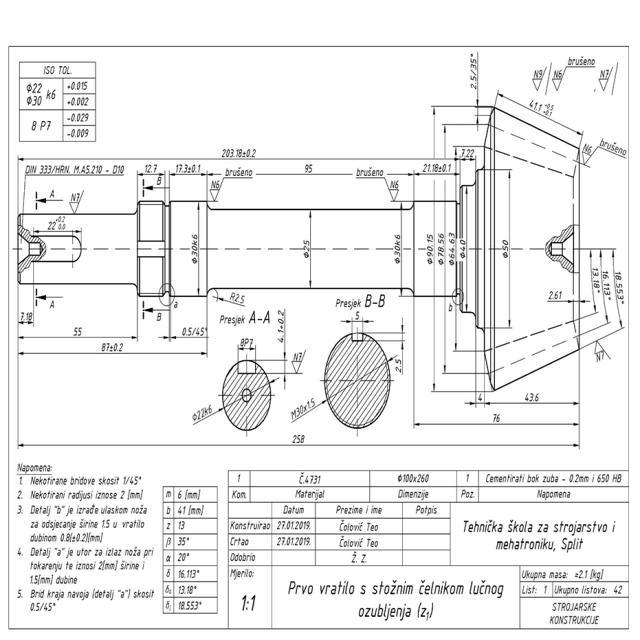Table 1: (14, 59, 100, 148)
Table 2: (160, 477, 220, 622)
Table 3: (228, 469, 631, 631)
Top view: (15, 50, 632, 451)
text1: (16, 459, 156, 615)
